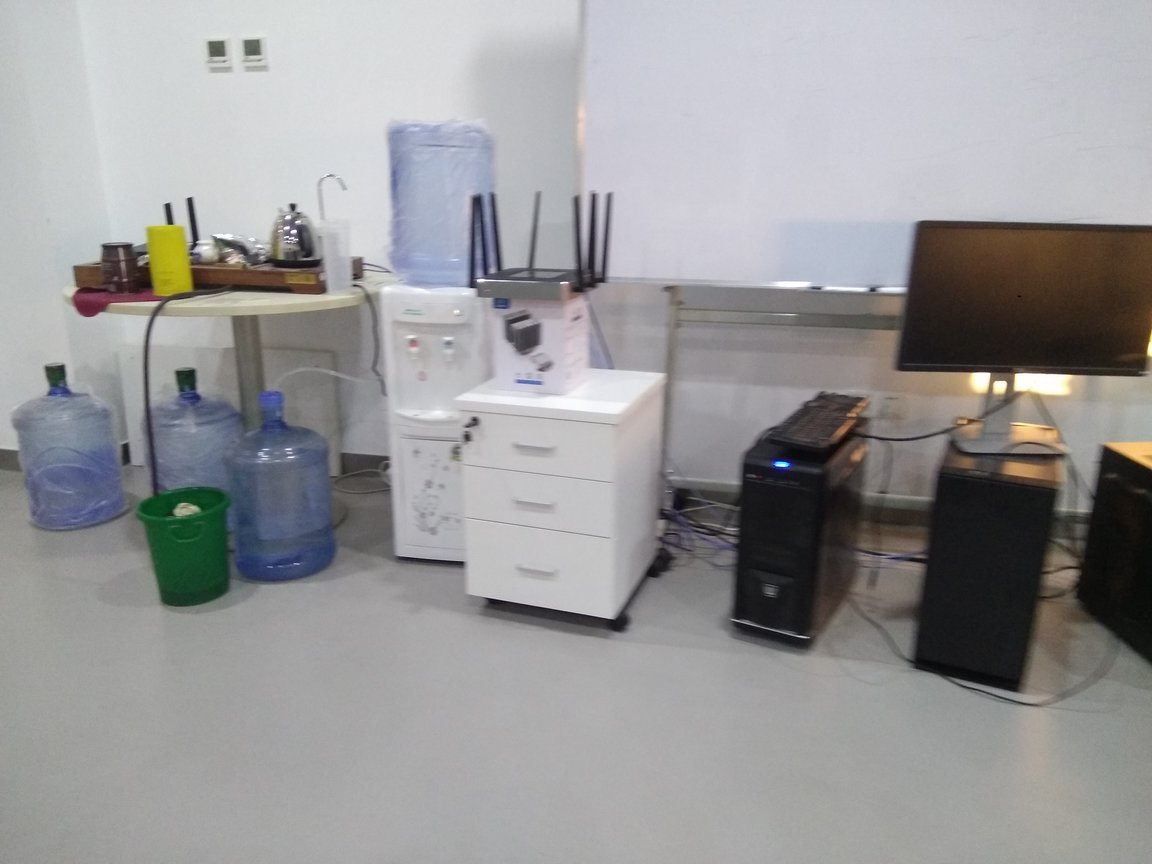computer: (921, 407, 1052, 697), (735, 394, 866, 672)
drawer chest: (455, 357, 669, 653)
monitor: (899, 203, 1152, 454)
scuttlebutt: (379, 115, 515, 298), (232, 388, 341, 598), (17, 357, 137, 532), (141, 364, 238, 560)
water dispenser: (373, 276, 499, 567)
